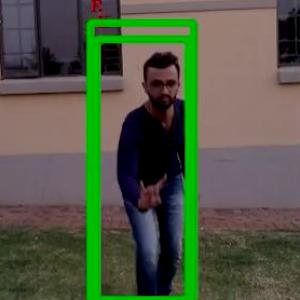takeoff-hand: (130, 170, 168, 214)
